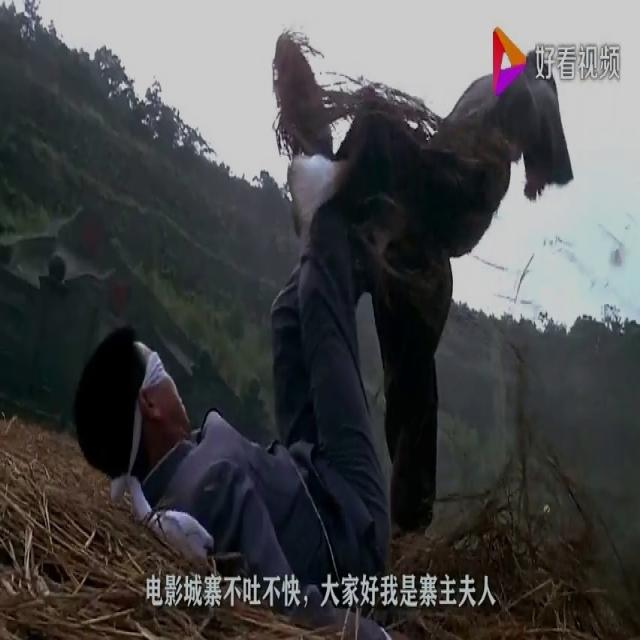fight: (28, 1, 583, 639)
